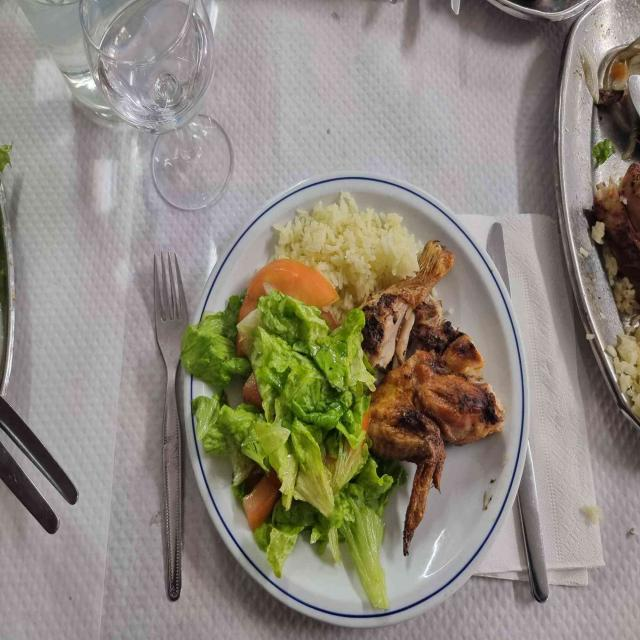chicken: (359, 247, 503, 555)
cup: (80, 0, 234, 210)
fork: (153, 252, 188, 600)
garbage: (479, 214, 604, 586), (239, 258, 338, 320), (475, 506, 527, 581)
knife: (518, 443, 549, 602), (486, 222, 510, 294)
lettuce: (180, 291, 405, 608)
rice: (271, 192, 423, 320)
